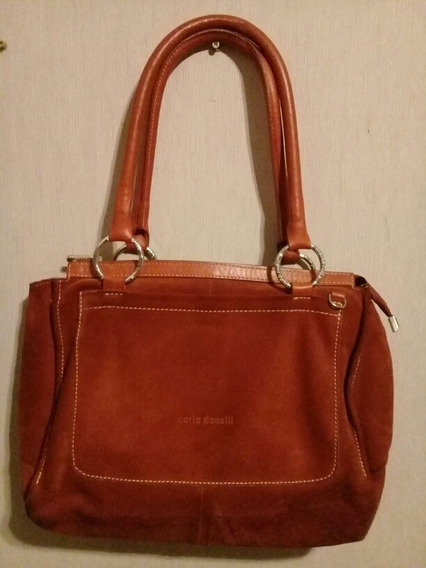cartera: (14, 12, 397, 552)
